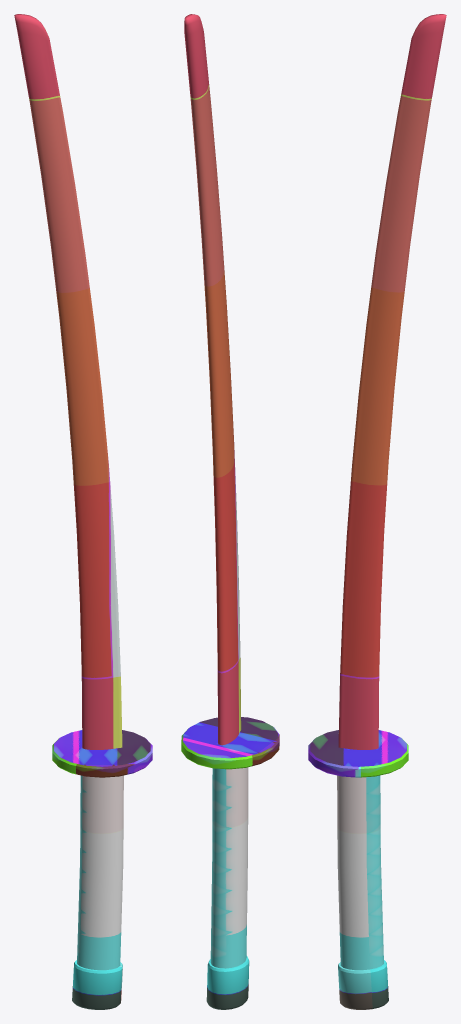
The model's file is Katana.FBX.
The picture shows the model from 3 angles, left to right: view 1: azimuth 90°, elevation 25°; view 2: azimuth 150°, elevation 25°; view 3: azimuth 270°, elevation 25°; orthographic projection. The views are drawn at different scales.
Parts seen in each view (by area): view 1: Katana; view 2: Katana; view 3: Katana.
Part boxes in pixels (left/top/right/bottom): Katana: left=14, top=14, right=152, bottom=1009; Katana: left=181, top=14, right=279, bottom=1009; Katana: left=308, top=14, right=446, bottom=1009.
Size of the model in its own units: 3.15 by 36.09 by 4.57.
